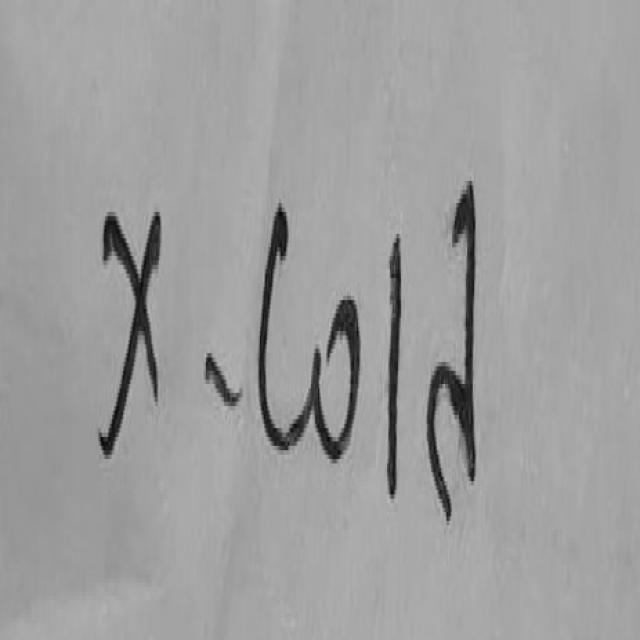C: (258, 203, 321, 448)
X: (98, 212, 160, 455)
d: (429, 181, 477, 519)
l: (388, 234, 402, 497)
o: (314, 300, 361, 457)
